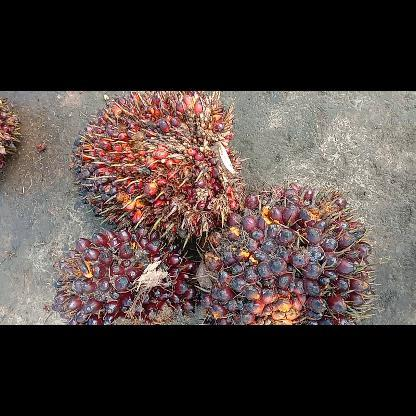Kurang masak: (198, 182, 374, 324), (52, 230, 194, 324)
TBS masak: (70, 94, 244, 242)
